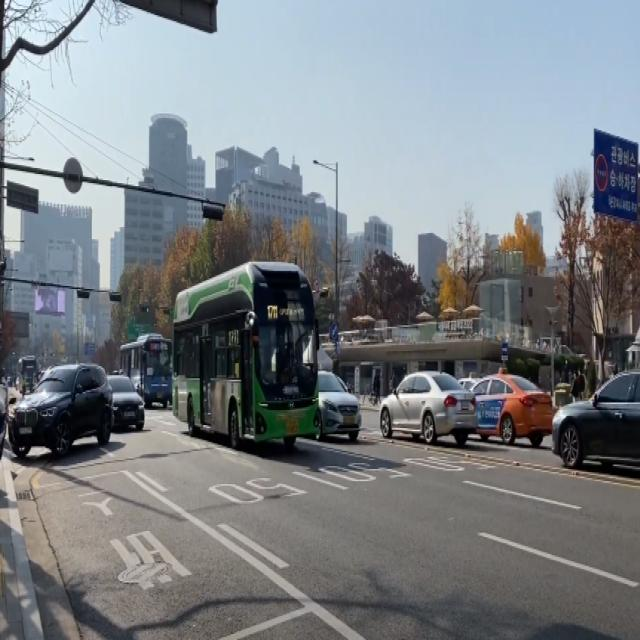bus-number: (267, 304, 279, 320)
